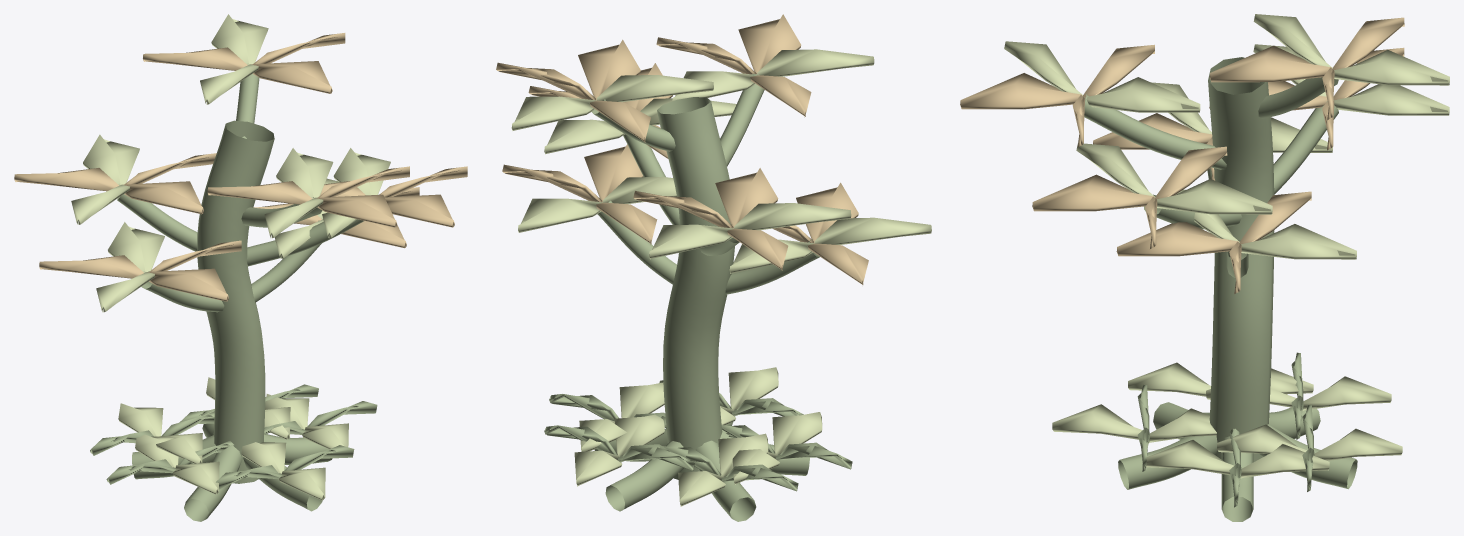
The model's file is bio_canopy_tree_05_near.glb.
The picture shows the model from 3 angles, left to right: view 1: azimuth 30°, elevation 25°; view 2: azimuth 150°, elevation 25°; view 3: azimuth 270°, elevation 25°; orthographic projection. The views are drawn at different scales.
Parts seen in each view (by area): view 1: Buttressed trunk, Broad canopy leaf.020, Broad canopy leaf.010, Broad canopy leaf.015, Broad canopy leaf.005, Broad canopy leaf.011, Broad canopy leaf.016, Broad canopy leaf.021, Broad canopy leaf.025, Broad canopy leaf.006, Low buttress leaf.009, Low buttress leaf.005 (+11 smaller); view 2: Buttressed trunk, Broad canopy leaf.005, Broad canopy leaf.015, Broad canopy leaf.010, Broad canopy leaf, Broad canopy leaf.016, Broad canopy leaf.006, Broad canopy leaf.011, Broad canopy leaf.021, Broad canopy leaf.001, Broad canopy leaf.020, Low buttress leaf.013 (+11 smaller); view 3: Buttressed trunk, Broad canopy leaf.025, Broad canopy leaf.015, Broad canopy leaf.010, Broad canopy leaf, Broad canopy leaf.016, Broad canopy leaf.026, Broad canopy leaf.011, Low buttress leaf.001, Broad canopy leaf.001, Low buttress leaf.009, Low buttress leaf.013 (+10 smaller).
Part boxes in pixels (x1,y1,x2,y2): Buttressed trunk: [117, 74, 363, 521]; Broad canopy leaf.020: [39, 240, 241, 301]; Broad canopy leaf.010: [207, 166, 409, 227]; Broad canopy leaf.015: [143, 33, 345, 93]; Broad canopy leaf.005: [14, 153, 216, 214]; Broad canopy leaf.011: [264, 148, 333, 238]; Broad canopy leaf.016: [200, 14, 268, 104]; Broad canopy leaf.021: [96, 222, 164, 312]; Broad canopy leaf.025: [320, 166, 467, 227]; Broad canopy leaf.006: [71, 134, 139, 224]; Low buttress leaf.009: [241, 442, 325, 500]; Low buttress leaf.005: [118, 403, 202, 463]; Buttressed trunk: [592, 73, 819, 521]; Broad canopy leaf.005: [633, 168, 788, 270]; Broad canopy leaf.015: [496, 39, 650, 142]; Broad canopy leaf.010: [656, 14, 811, 117]; Broad canopy leaf: [502, 144, 657, 244]; Broad canopy leaf.016: [511, 75, 713, 130]; Broad canopy leaf.006: [649, 203, 851, 259]; Broad canopy leaf.011: [672, 49, 874, 101]; Broad canopy leaf.021: [729, 217, 931, 273]; Broad canopy leaf.001: [518, 176, 676, 232]; Broad canopy leaf.020: [773, 182, 868, 284]; Low buttress leaf.013: [574, 414, 664, 486]; Buttressed trunk: [1084, 57, 1357, 521]; Broad canopy leaf.025: [1032, 146, 1227, 248]; Broad canopy leaf.015: [1209, 17, 1404, 120]; Broad canopy leaf.010: [960, 44, 1154, 147]; Broad canopy leaf: [1116, 191, 1311, 293]; Broad canopy leaf.016: [1253, 14, 1449, 85]; Broad canopy leaf.026: [1076, 143, 1272, 214]; Broad canopy leaf.011: [1004, 41, 1200, 112]; Low buttress leaf.001: [1146, 440, 1329, 478]; Broad canopy leaf.001: [1176, 189, 1356, 259]; Low buttress leaf.009: [1052, 404, 1216, 443]; Low buttress leaf.013: [1217, 424, 1402, 460].
Size of the model in its own units: 2.97 by 2.99 by 2.93.
